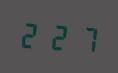seven: (71, 20, 96, 55)
two: (18, 17, 43, 51), (45, 19, 70, 53)
